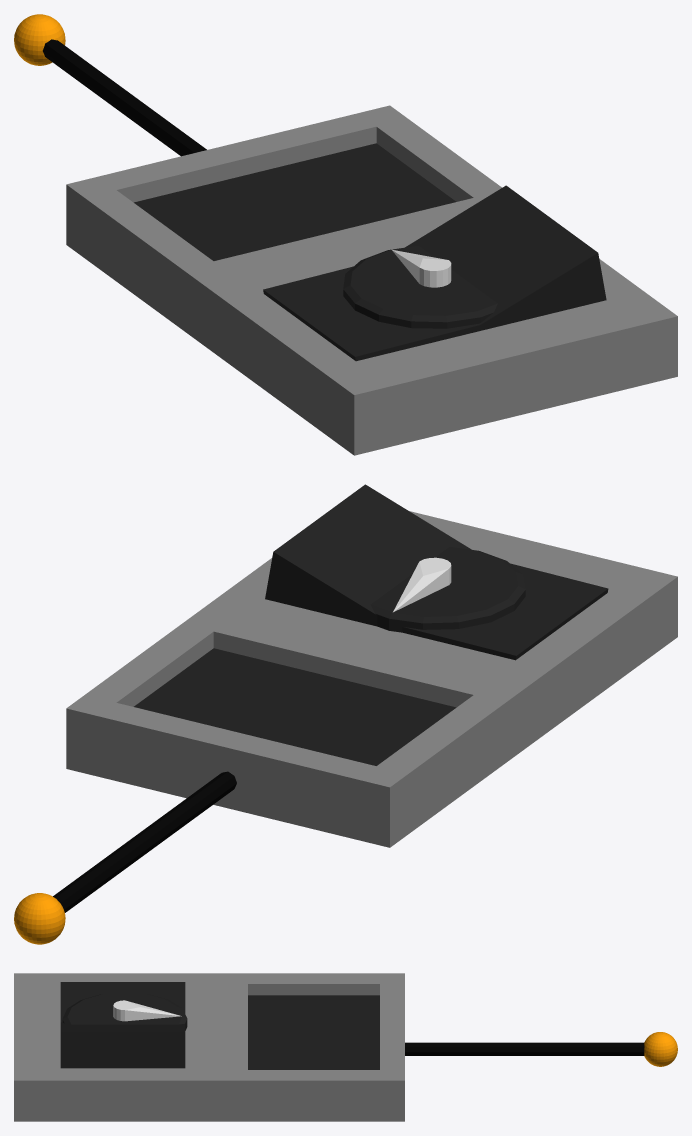
Rendered from Voltmeter.fbx.
3 renders of one model, top to bottom at view 1: azimuth 30°, elevation 25°; view 2: azimuth 150°, elevation 25°; view 3: azimuth 270°, elevation 25°, orthographic. The views are drawn at different scales.
Parts seen in each view (by area): view 1: BasicVoltmeter, OnOffButton, OnOffSlider, Antenna, Sensor; view 2: BasicVoltmeter, OnOffButton, OnOffSlider, Antenna, Sensor; view 3: BasicVoltmeter, OnOffButton, OnOffSlider, Antenna, Sensor.
Boxes of the visible parts, left/top/right/bottom form: BasicVoltmeter: left=66, top=105, right=677, bottom=455; OnOffButton: left=263, top=185, right=606, bottom=361; OnOffSlider: left=343, top=245, right=497, bottom=328; Antenna: left=42, top=39, right=206, bottom=156; Sensor: left=14, top=14, right=65, bottom=65; BasicVoltmeter: left=66, top=511, right=677, bottom=847; OnOffButton: left=265, top=484, right=608, bottom=660; OnOffSlider: left=370, top=546, right=525, bottom=632; Antenna: left=53, top=771, right=236, bottom=912; Sensor: left=14, top=893, right=65, bottom=944; BasicVoltmeter: left=14, top=973, right=404, bottom=1121; OnOffButton: left=60, top=982, right=185, bottom=1068; OnOffSlider: left=62, top=992, right=187, bottom=1030; Antenna: left=405, top=1042, right=644, bottom=1055; Sensor: left=644, top=1032, right=677, bottom=1066.
Bounding box in the file's own units: 406 × 132 × 1063.
